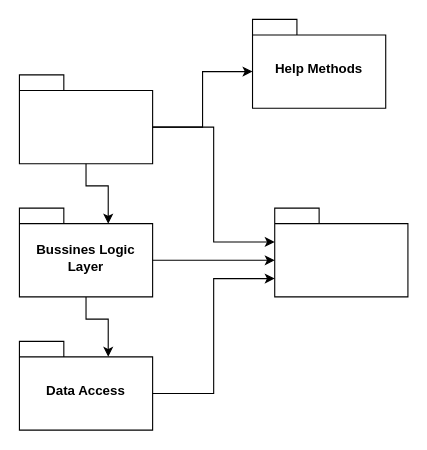
Some shapes in this 427 by 450 pixel diagram are drawn without their labels. Here are the shapes that lost their labels. From the top down, the centre of each, then its label:
At pixel 85 119: "GUI".
At pixel 341 252: "Data Model".
